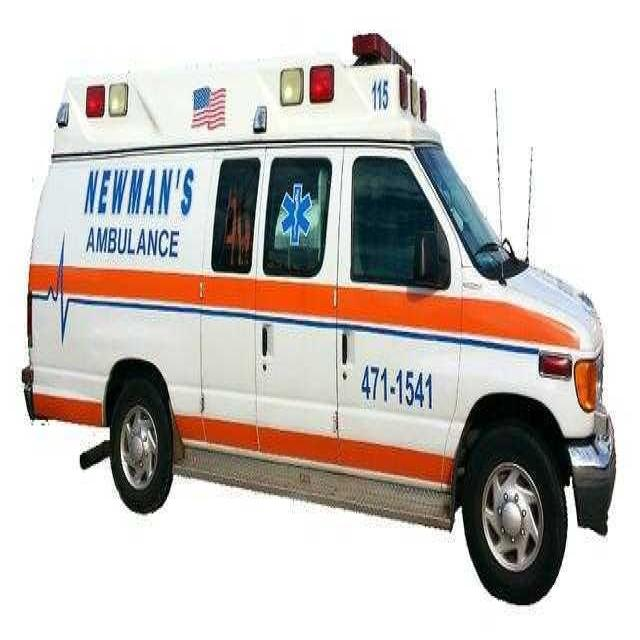ambulance: (26, 34, 614, 604)
